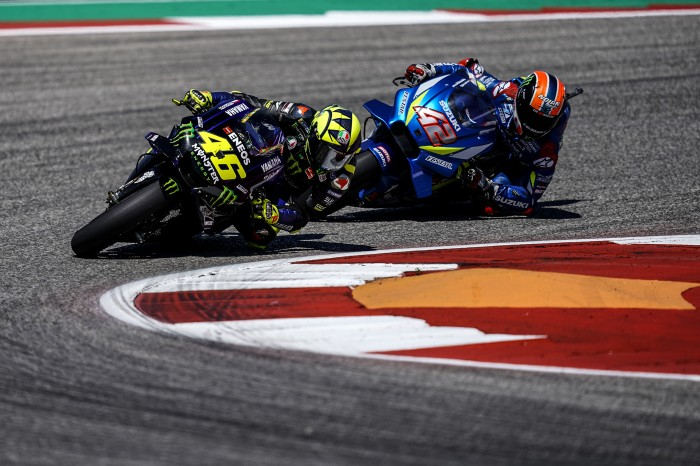helmet: (515, 62, 563, 138), (313, 99, 359, 172)
